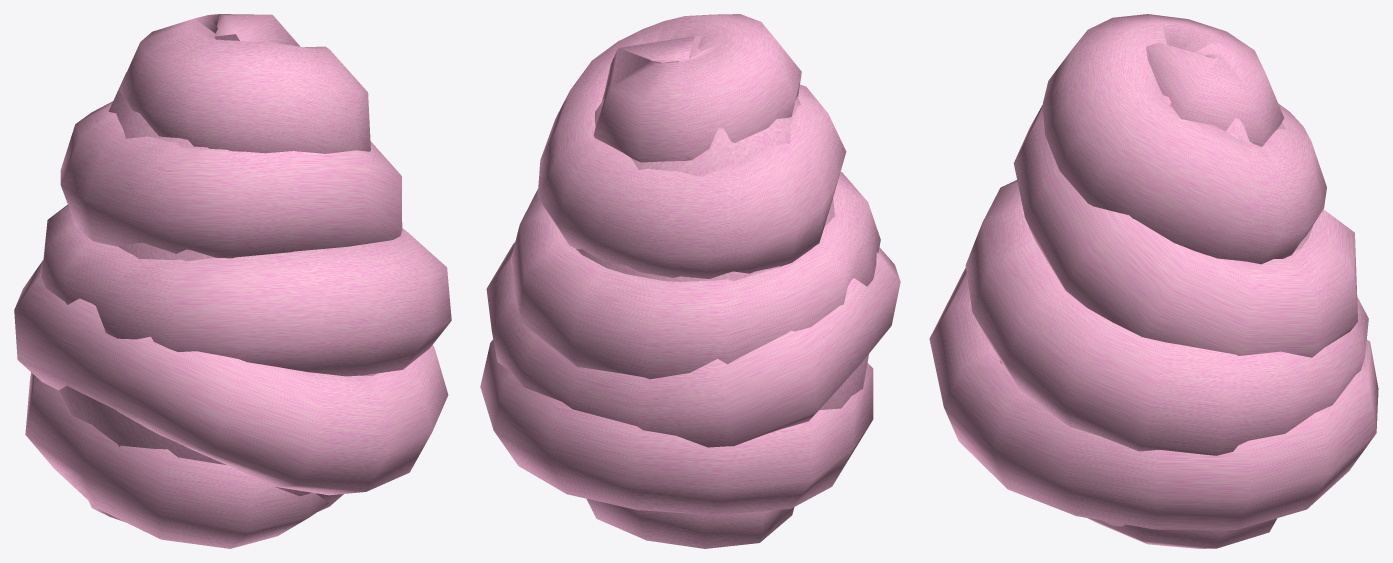
File: CottonSlow.fbx
The picture shows the model from 3 angles, left to right: view 1: azimuth 30°, elevation 25°; view 2: azimuth 150°, elevation 25°; view 3: azimuth 270°, elevation 25°; orthographic projection. The views are drawn at different scales.
Parts seen in each view (by area): view 1: Bar; view 2: Bar; view 3: Bar.
Part boxes in pixels (x1,y1,x2,y2): Bar: [14, 14, 451, 548]; Bar: [480, 14, 900, 548]; Bar: [929, 14, 1378, 548].
Size of the model in its own units: 1.27 by 1.66 by 1.37.
